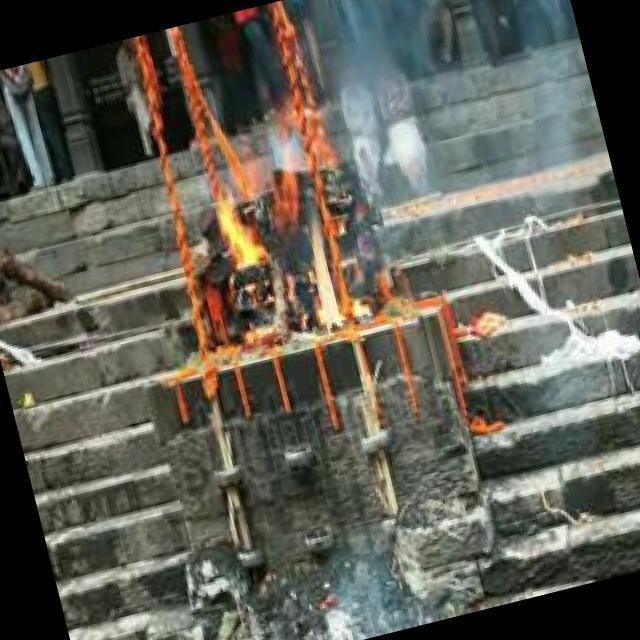Fire: (190, 100, 356, 353)
